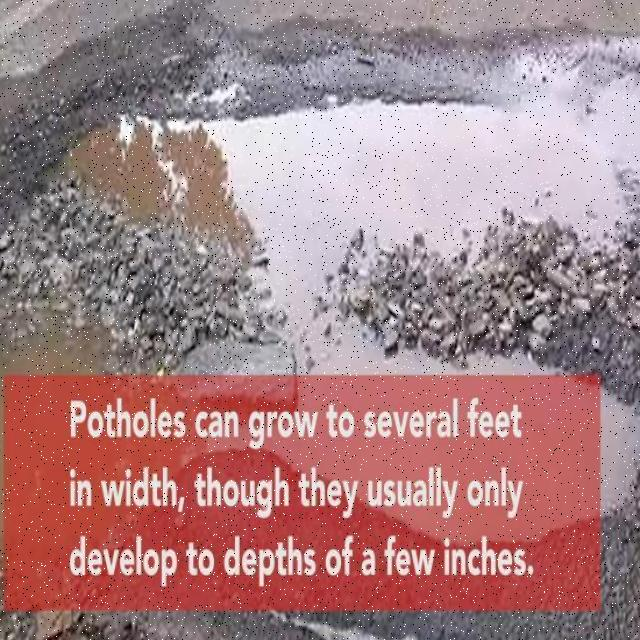pothole: (0, 96, 628, 368)
